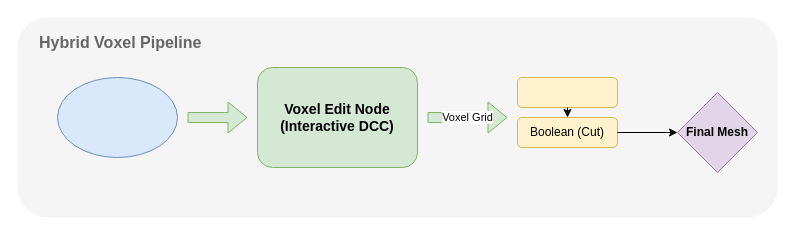
Image size: 794x234. Some labels were removed from this diagram. Each missing label, with the centre of its shape:
User Input (Hand Painting): point (117, 117)
VDB Smooth: point (567, 92)
